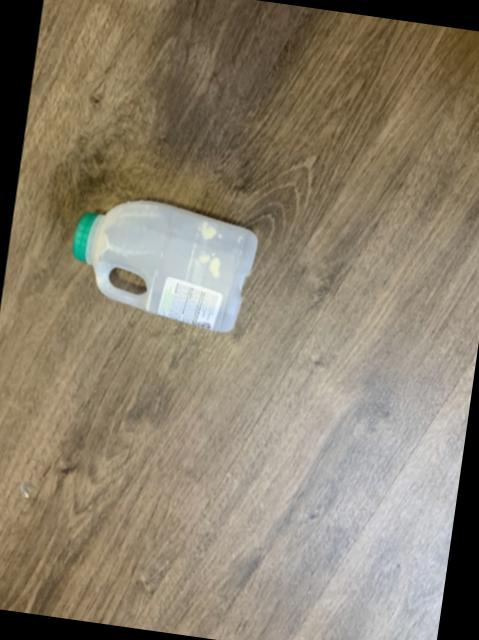plastic: (70, 201, 255, 332)
